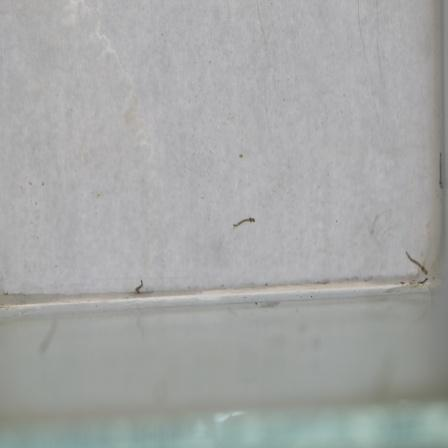Jentik-Nyamuk: (403, 246, 431, 281), (227, 210, 261, 235), (131, 276, 151, 297)
